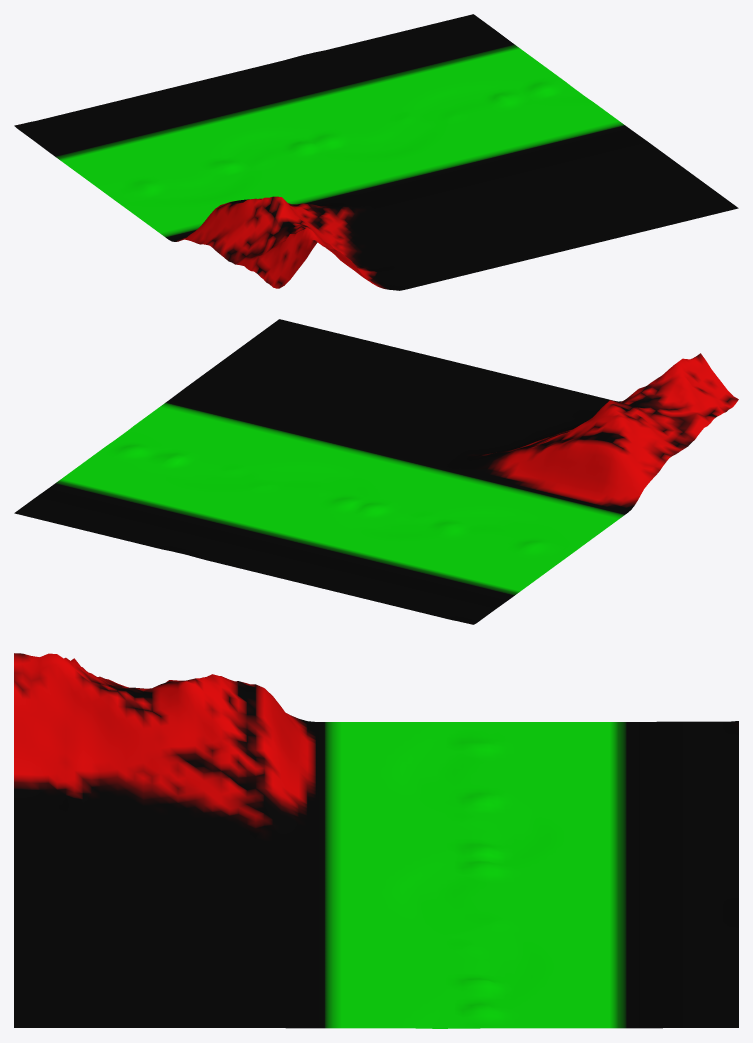
The model's file is SM_FutureCity_Terrain_2_1.fbx.
3 renders of one model, top to bottom at view 1: azimuth 30°, elevation 25°; view 2: azimuth 150°, elevation 25°; view 3: azimuth 270°, elevation 25°, orthographic. The views are drawn at different scales.
Parts seen in each view (by area): view 1: SM_FutureCity_Terrain_2_1; view 2: SM_FutureCity_Terrain_2_1; view 3: SM_FutureCity_Terrain_2_1.
Part boxes in pixels (x1,y1,x2,y2): SM_FutureCity_Terrain_2_1: [14, 14, 738, 290]; SM_FutureCity_Terrain_2_1: [14, 319, 738, 624]; SM_FutureCity_Terrain_2_1: [14, 653, 738, 1028].
Bounding box in the file's own units: 50400 × 7539 × 50400.
